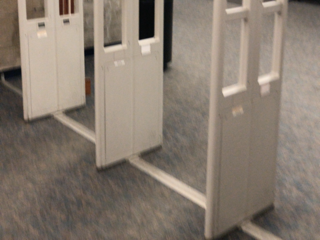Obstacle: (203, 0, 287, 238), (94, 0, 165, 172), (20, 0, 85, 120)
